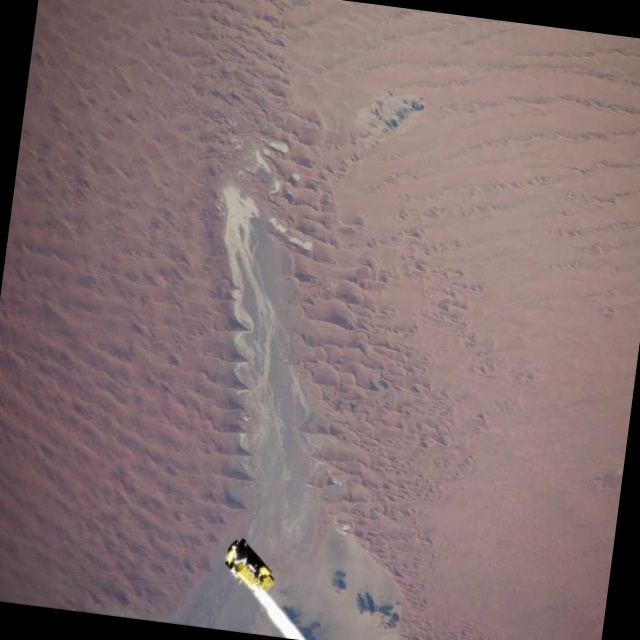satellite: (203, 521, 340, 640)
